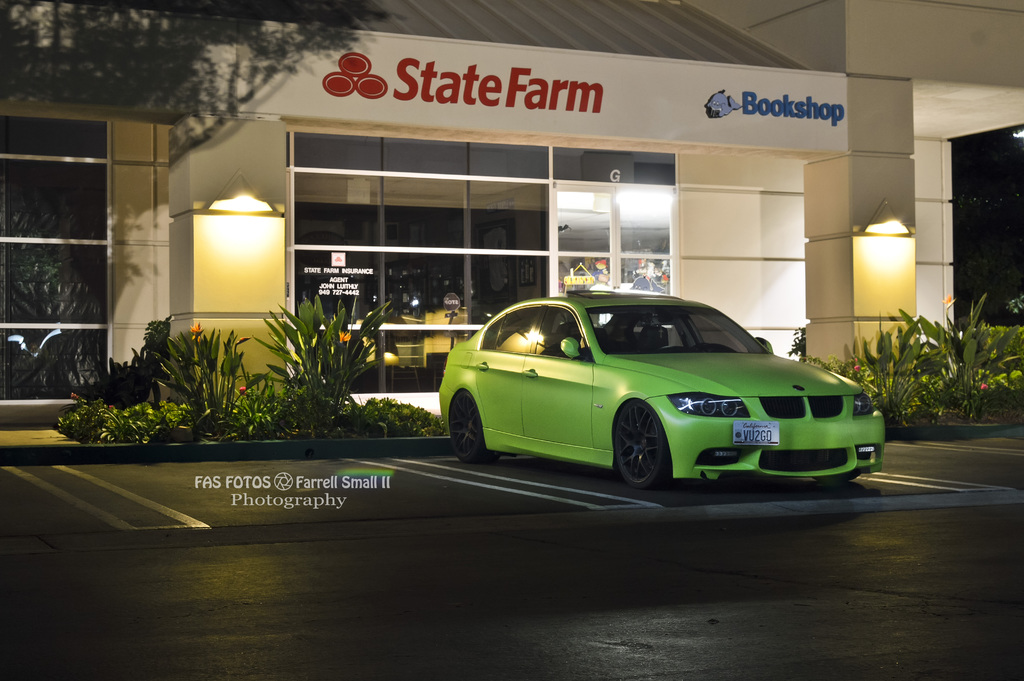Car: (430, 278, 890, 500)
